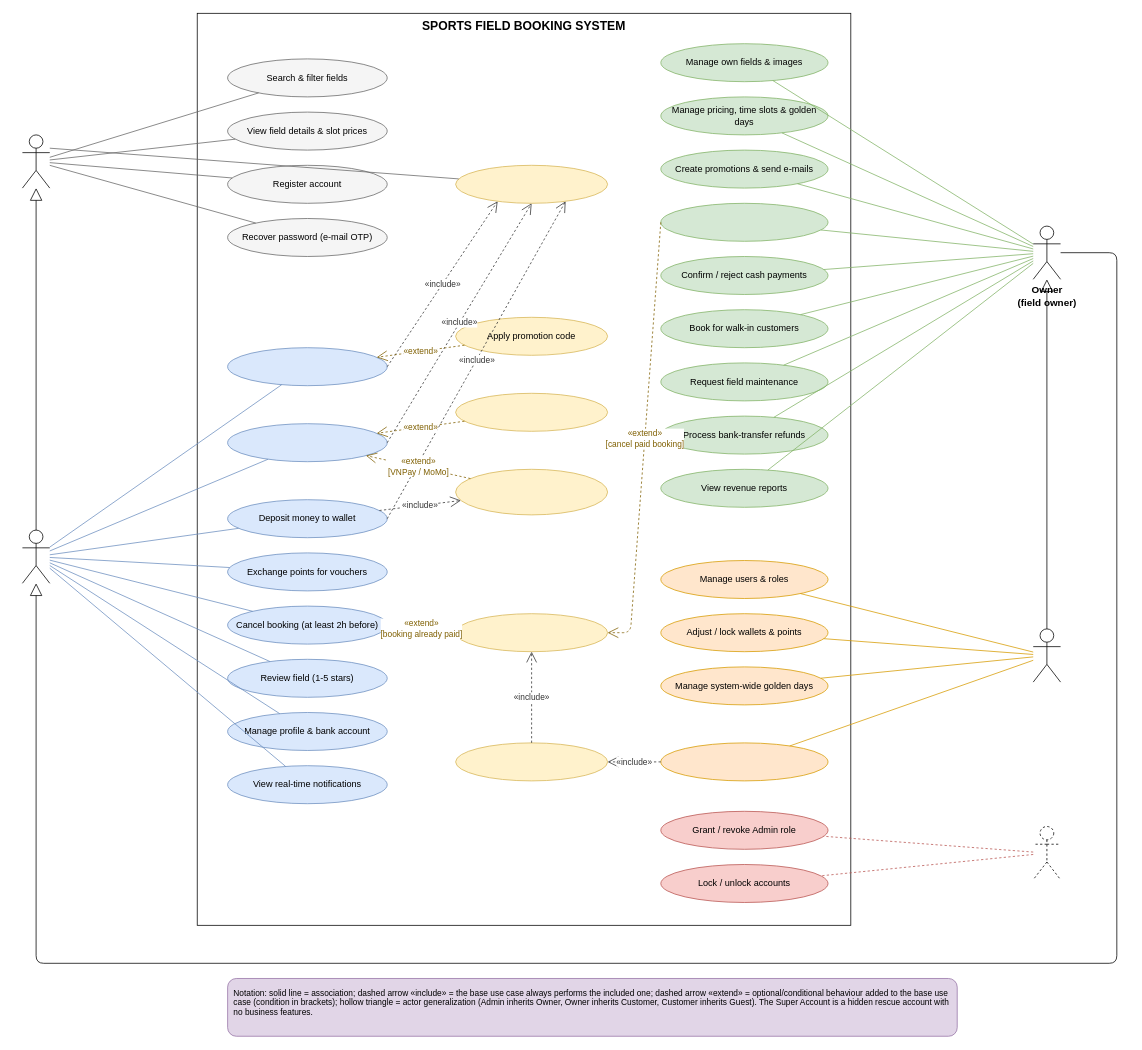
The diagram is 1142 pixels wide and 1050 high, and some of its shapes have lost their labels. The box of each missing label's shape, as (x1, y1, x2, y2) in pixels:
Admin: (1032, 628, 1061, 682)
Approve / reject maintenance requests: (660, 742, 828, 781)
Auto-cancel overlapping bookings: (455, 742, 608, 781)
Book field (date, free slots): (227, 347, 387, 386)
Confirm / cancel bookings: (660, 203, 828, 241)
Customer: (22, 529, 50, 583)
Guest: (22, 134, 50, 188)
Login / Logout: (455, 165, 608, 203)
Pay booking (Wallet / VNPay / MoMo / Cash): (227, 423, 387, 462)
Process gateway payment (VNPay sandbox / demo): (455, 469, 608, 515)
Redeem points (1 pt = 100 VND, max 50%): (455, 393, 608, 431)
Refund payment (wallet / bank transfer): (455, 613, 608, 652)
Super Account (rescue only): (1032, 826, 1061, 880)
